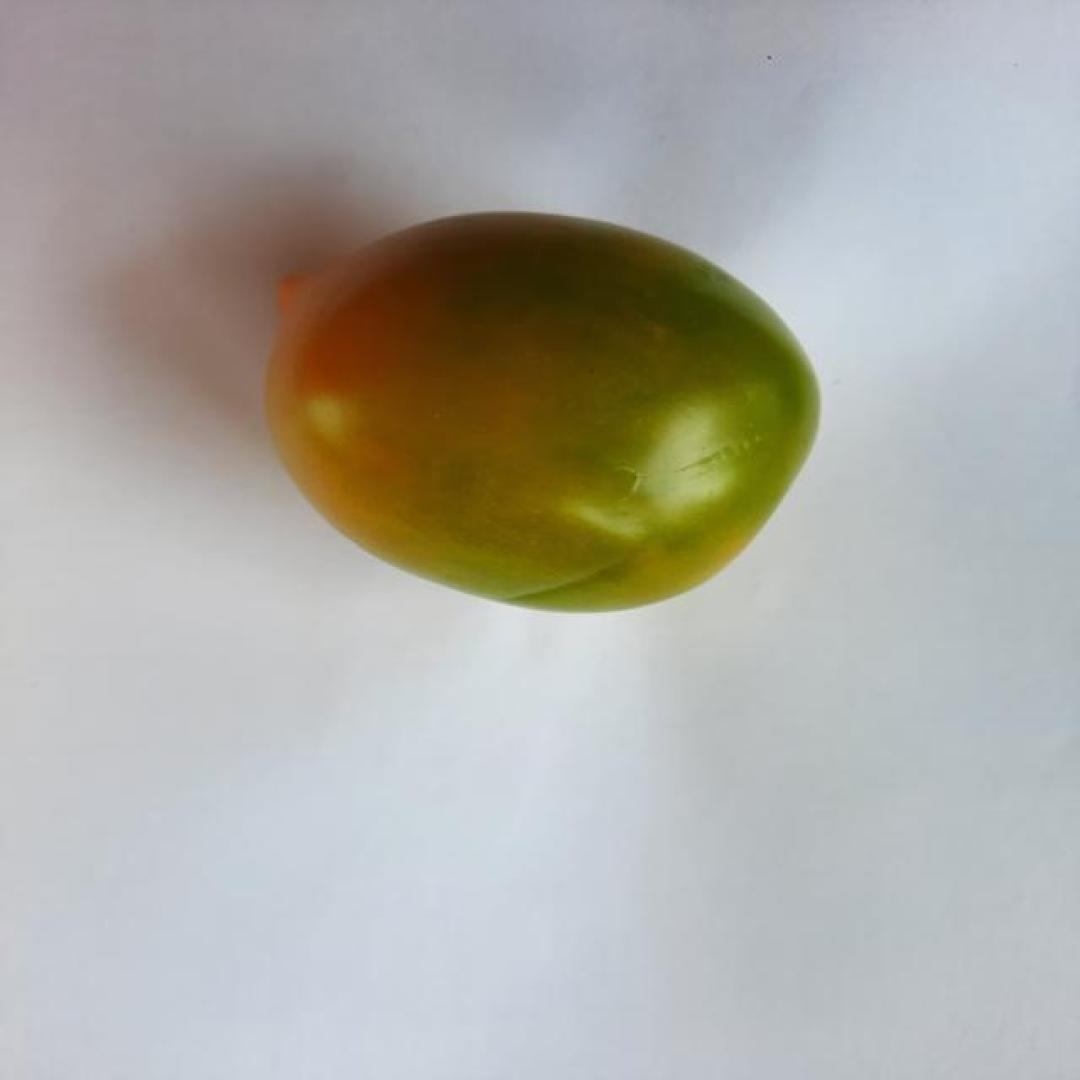setengah_matang: (258, 209, 829, 618)
